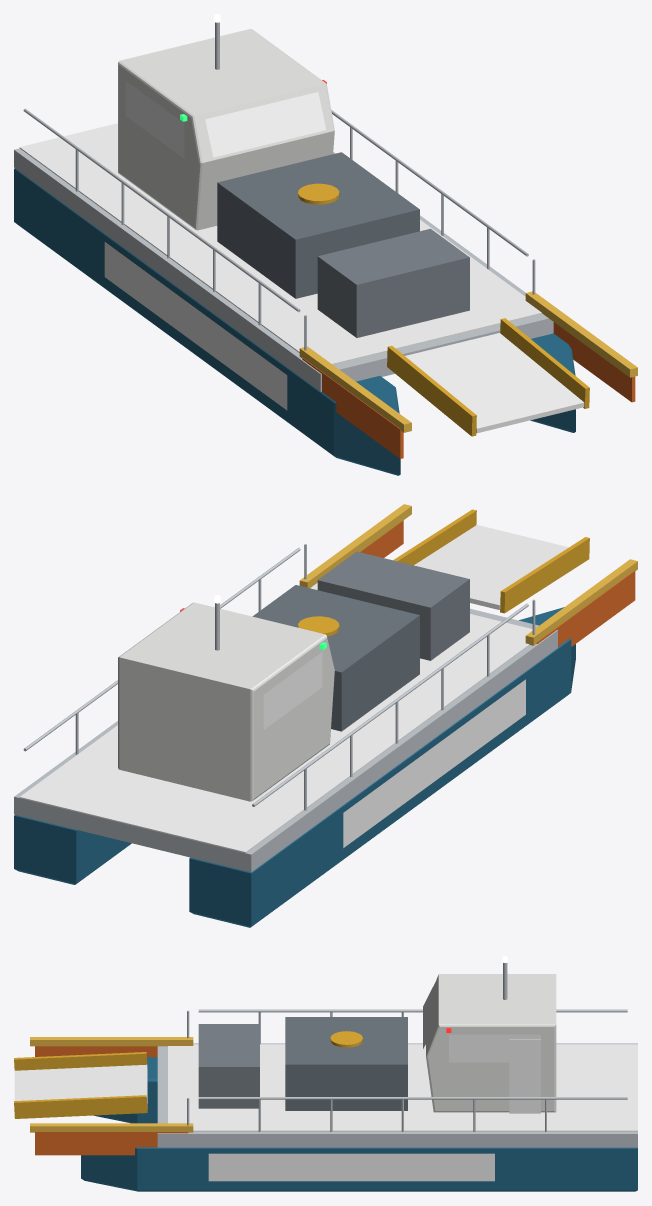
Rendered from fleet--skimmerVessel.glb.
3 views of the same model, one above another, from view 1: azimuth 30°, elevation 25°; view 2: azimuth 150°, elevation 25°; view 3: azimuth 270°, elevation 25° (orthographic). The views are drawn at different scales.
Visible parts, largest first — view 1: skimmerVessel:shell, conveyor, basket, sweepStarboard, sweepPort, tankHatch; view 2: skimmerVessel:shell, conveyor, basket, sweepStarboard, sweepPort, tankHatch; view 3: skimmerVessel:shell, conveyor, basket, sweepPort, sweepStarboard, wheelhouseDoor, tankHatch.
Part boxes in pixels (x1,y1,x2,y2): skimmerVessel:shell: (14,22,575,475); conveyor: (387,318,589,436); basket: (317,228,469,337); sweepStarboard: (299,346,411,458); sweepPort: (525,291,637,402); tankHatch: (298,183,339,204); skimmerVessel:shell: (14,544,575,927); conveyor: (393,509,589,613); basket: (317,551,469,660); sweepStarboard: (525,559,637,646); sweepPort: (299,504,411,588); tankHatch: (298,616,339,636); skimmerVessel:shell: (81,963,637,1191); conveyor: (14,1052,147,1118); basket: (198,1024,259,1108); sweepPort: (30,1123,193,1155); sweepStarboard: (30,1037,193,1057); wheelhouseDoor: (509,1039,540,1113); tankHatch: (330,1031,362,1047).
Size of the model in its own units: 4.22 by 4.1 by 12.21.
